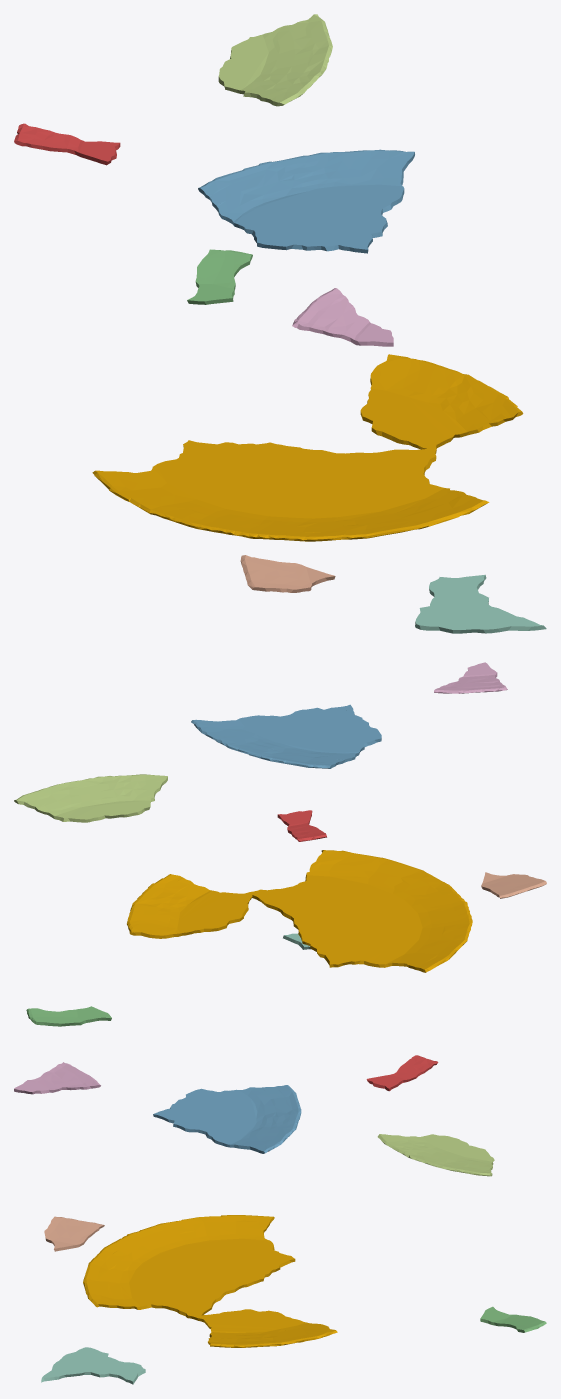
The model's file is fractured_9_8pcs_transformed.glb.
The picture shows the model from 3 angles, top to bottom: view 1: azimuth 30°, elevation 25°; view 2: azimuth 150°, elevation 25°; view 3: azimuth 270°, elevation 25°; orthographic projection. The views are drawn at different scales.
Parts seen in each view (by area): view 1: piece_0.obj, piece_2.obj, piece_5.obj, piece_4.obj, piece_6.obj, piece_7.obj, piece_3.obj, piece_1.obj; view 2: piece_0.obj, piece_2.obj, piece_5.obj, piece_6.obj, piece_3.obj, piece_7.obj, piece_1.obj; view 3: piece_0.obj, piece_2.obj, piece_5.obj, piece_4.obj, piece_6.obj, piece_7.obj, piece_1.obj, piece_3.obj.
Boxes of the visible parts, x1,y1,x2,y2 form: piece_0.obj: (92,354,523,541); piece_2.obj: (198,149,414,253); piece_5.obj: (218,14,332,106); piece_4.obj: (415,574,546,633); piece_6.obj: (292,288,393,346); piece_7.obj: (240,555,335,592); piece_3.obj: (187,249,252,304); piece_1.obj: (14,123,120,165); piece_0.obj: (127,850,472,972); piece_2.obj: (191,704,381,768); piece_5.obj: (14,774,167,822); piece_6.obj: (434,662,507,693); piece_3.obj: (26,1006,111,1026); piece_7.obj: (481,872,546,898); piece_1.obj: (277,810,326,841); piece_0.obj: (83,1215,337,1347); piece_2.obj: (153,1085,301,1153); piece_5.obj: (377,1134,494,1176); piece_4.obj: (41,1347,145,1384); piece_6.obj: (14,1062,100,1094); piece_7.obj: (44,1216,104,1251); piece_1.obj: (366,1055,438,1091); piece_3.obj: (480,1306,546,1332).
Size of the model in its own units: 1 by 0.8512 by 1.7.
